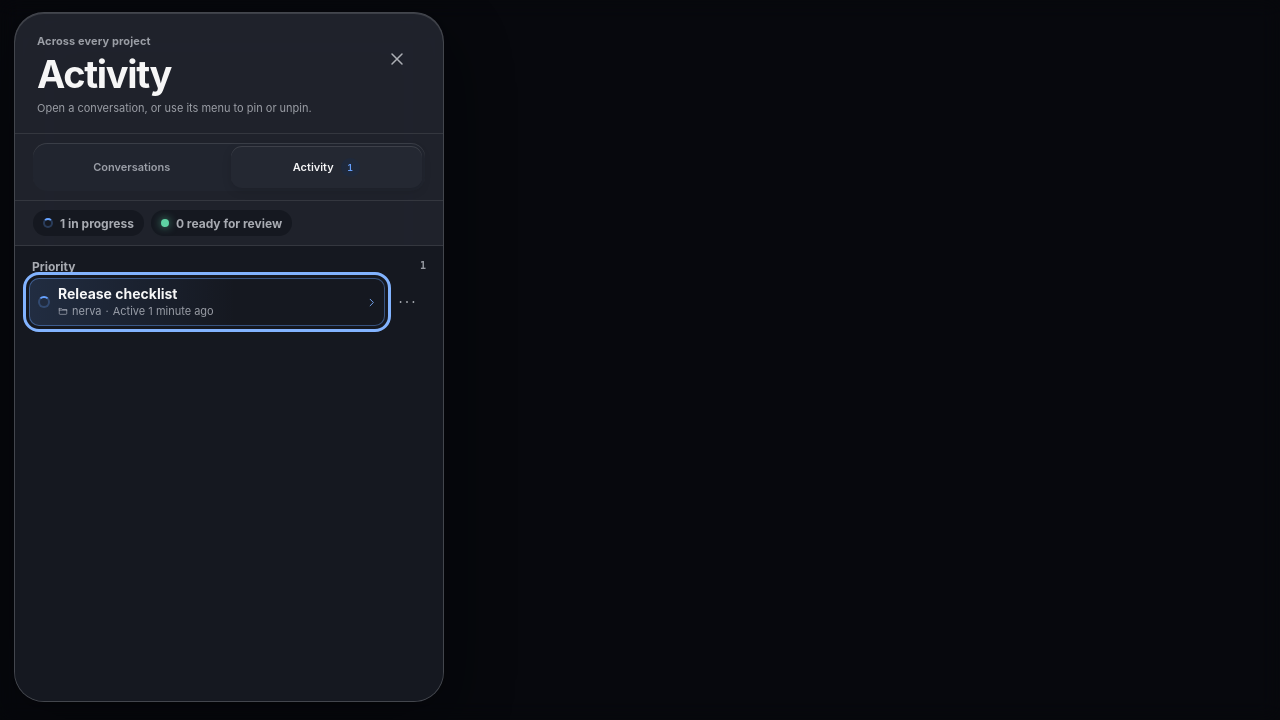
Test: Activity accessible actions › exposes a single-tap action button without opening or mutating a session
Click the button named "Actions for Release checklist": point(407, 302) [385,278,429,326]
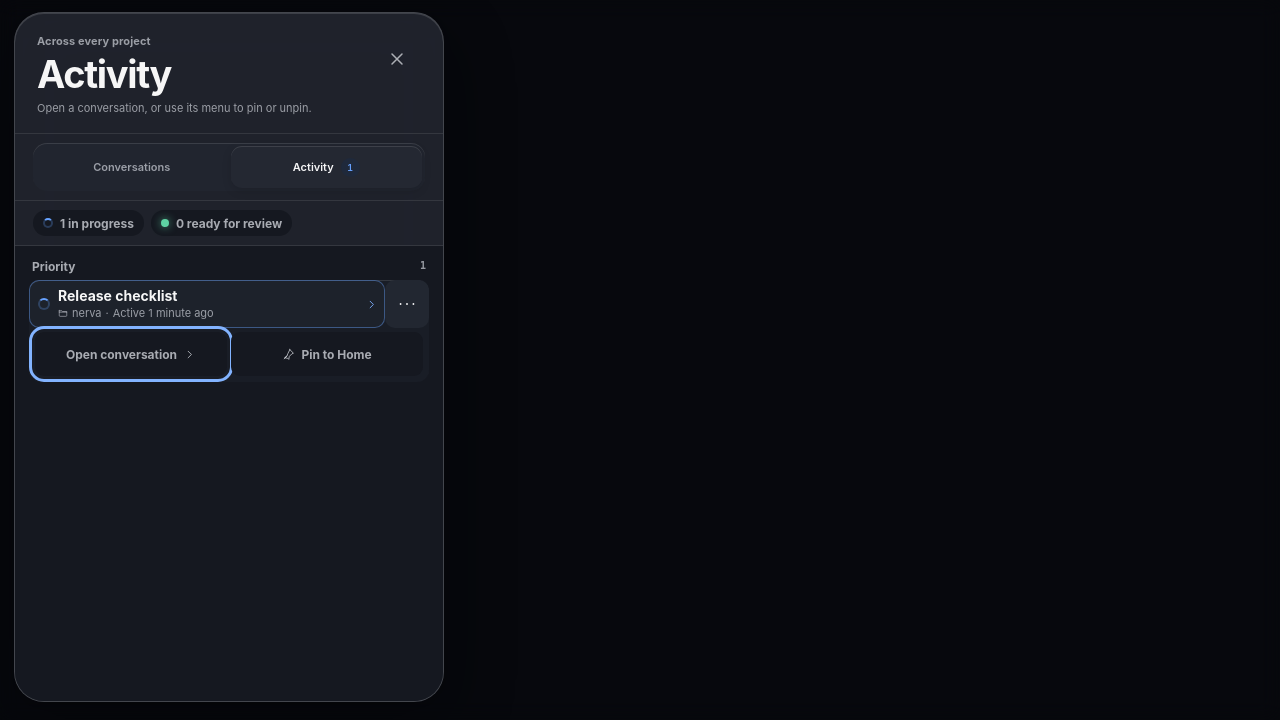
expect the button named "Actions for Release checklist" is expanded: met, box [385,280,429,328]
expect the menu named "Actions for Release checklist" is shown: met, box [29,328,429,382]
